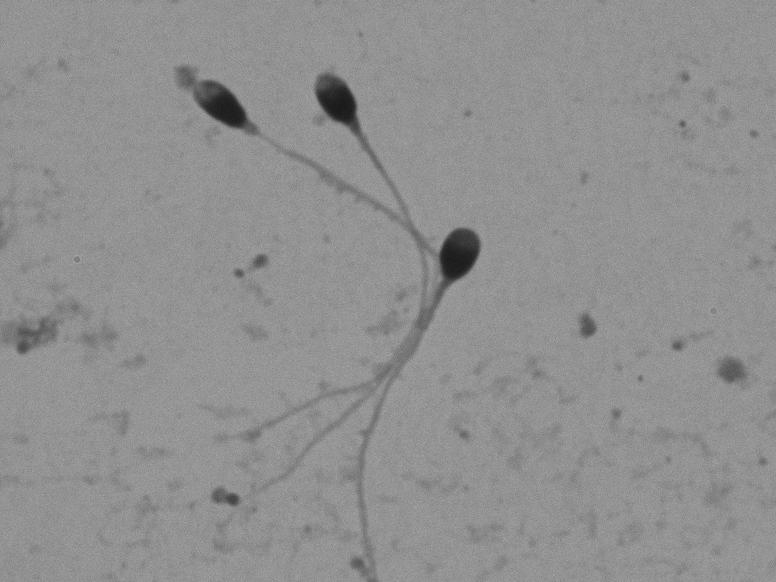Abnormal: (176, 54, 444, 261)
Normal: (205, 55, 442, 519), (340, 209, 501, 568)
